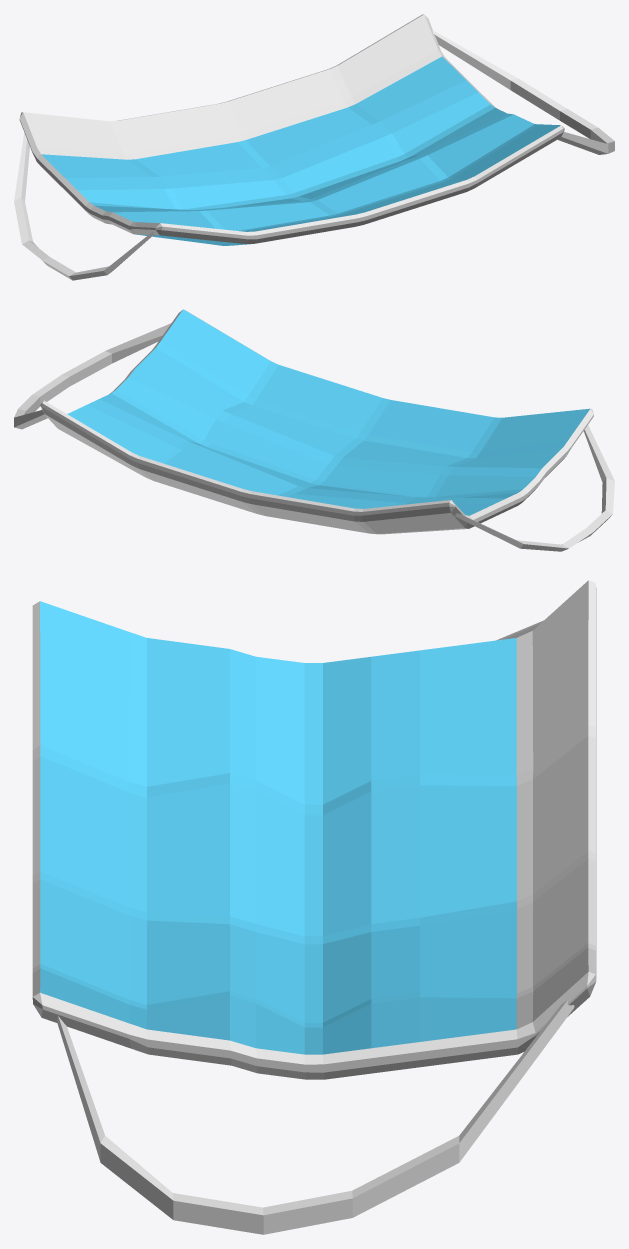
The model's file is masque.fbx.
3 views of the same model, one above another, from view 1: azimuth 30°, elevation 25°; view 2: azimuth 150°, elevation 25°; view 3: azimuth 270°, elevation 25° (orthographic). The views are drawn at different scales.
Visible parts, largest first — view 1: masque; view 2: masque; view 3: masque.
Part boxes in pixels (bbox=[...]): masque: bbox=[14, 14, 614, 280]; masque: bbox=[14, 309, 614, 551]; masque: bbox=[32, 580, 596, 1234].
Size of the model in its own units: 136 by 22.19 by 59.83.
